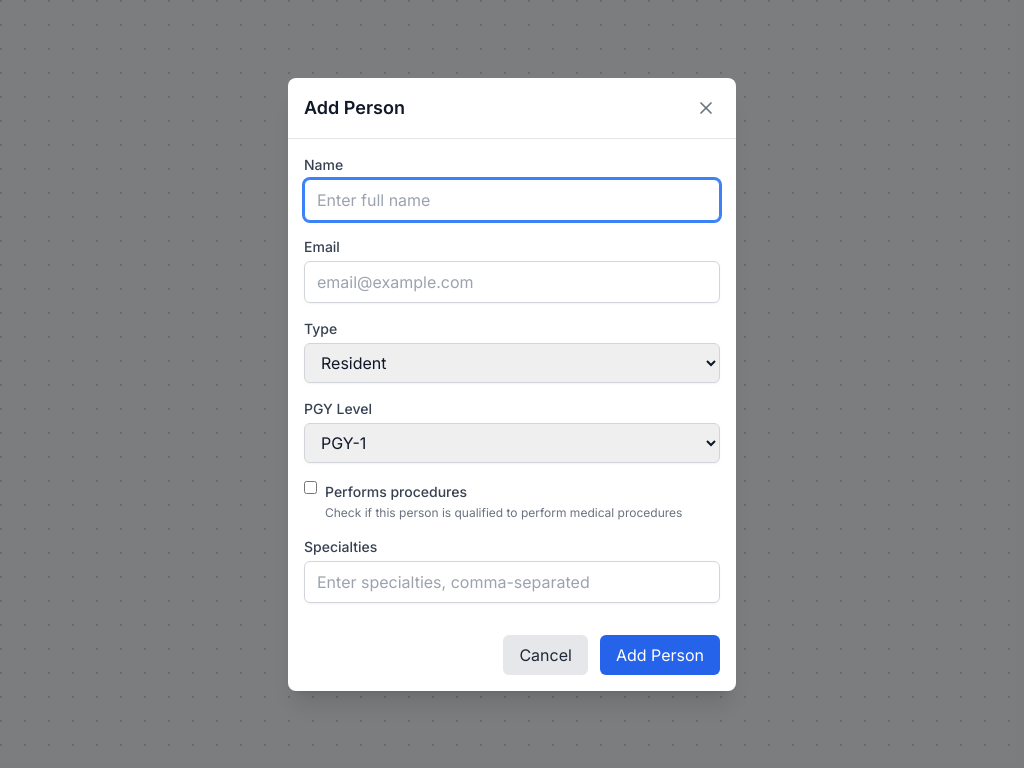
AddPersonModal › Form Validation › should show error for invalid email format
The image size is (1024, 768).
# Enter valid name to bypass required validation
Step 1. Type "Dr. John Smith" into the field labelled "Name" → x=512, y=200, box x1=304 y1=178 x2=720 y2=220
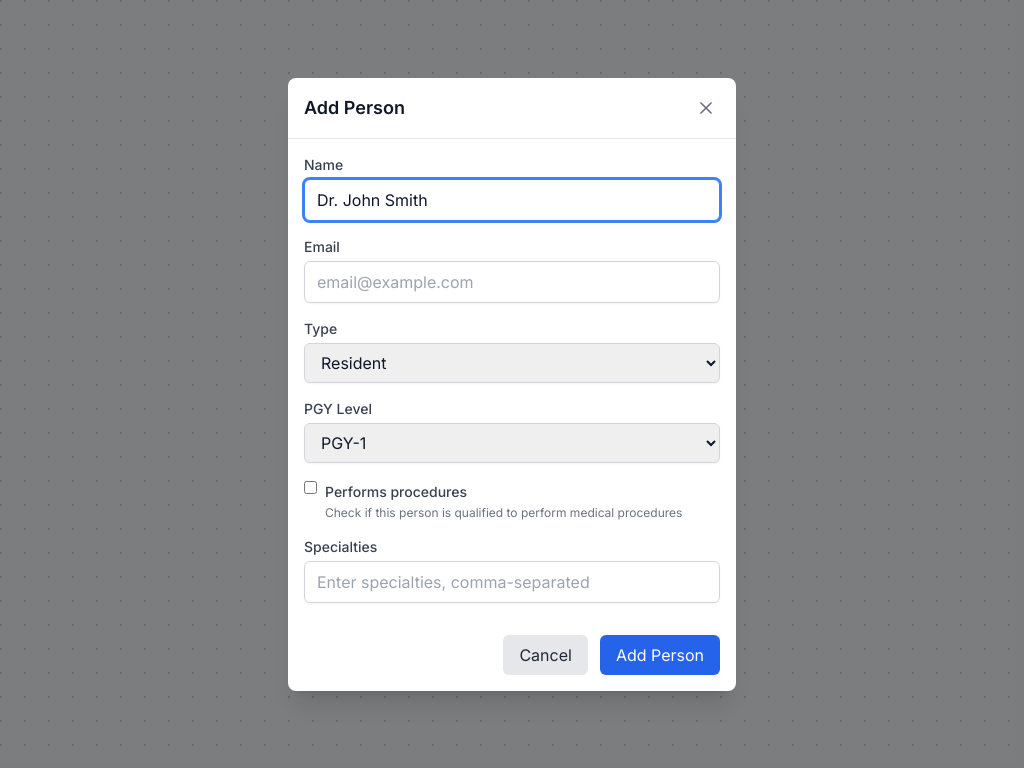
# Enter invalid email
Step 2. Type "invalid-email" into the field labelled "Email" → x=512, y=282, box x1=304 y1=260 x2=720 y2=302
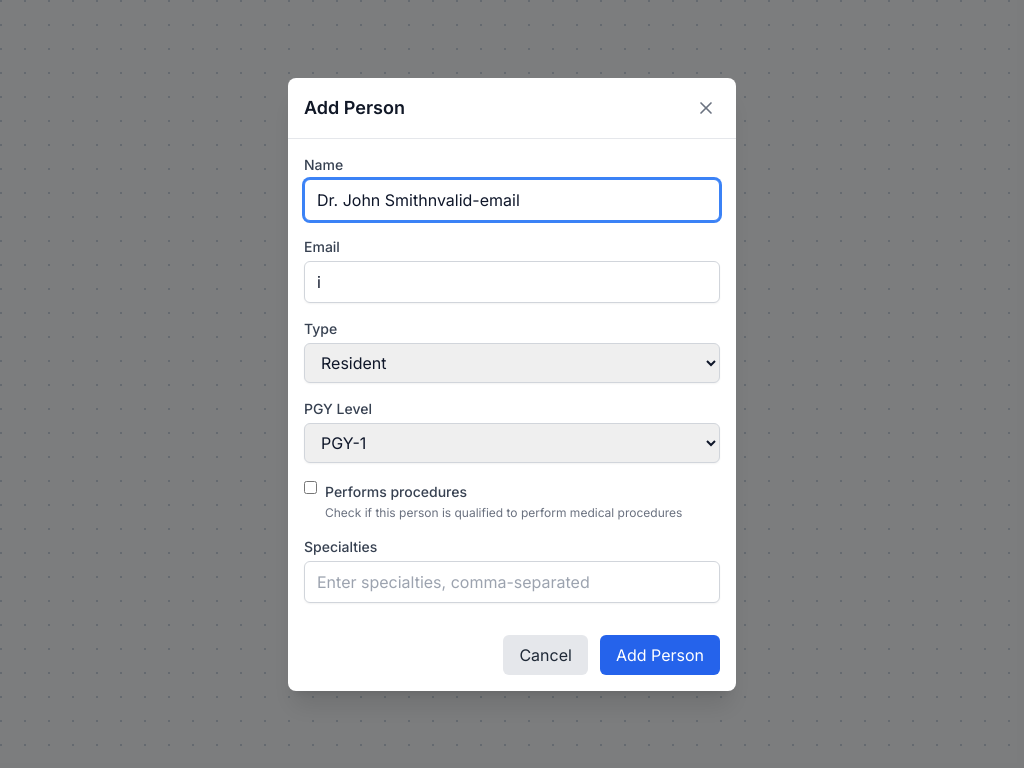
# Submit form
Step 3. Submit the form labelled "Name", box x1=304 y1=154 x2=720 y2=674
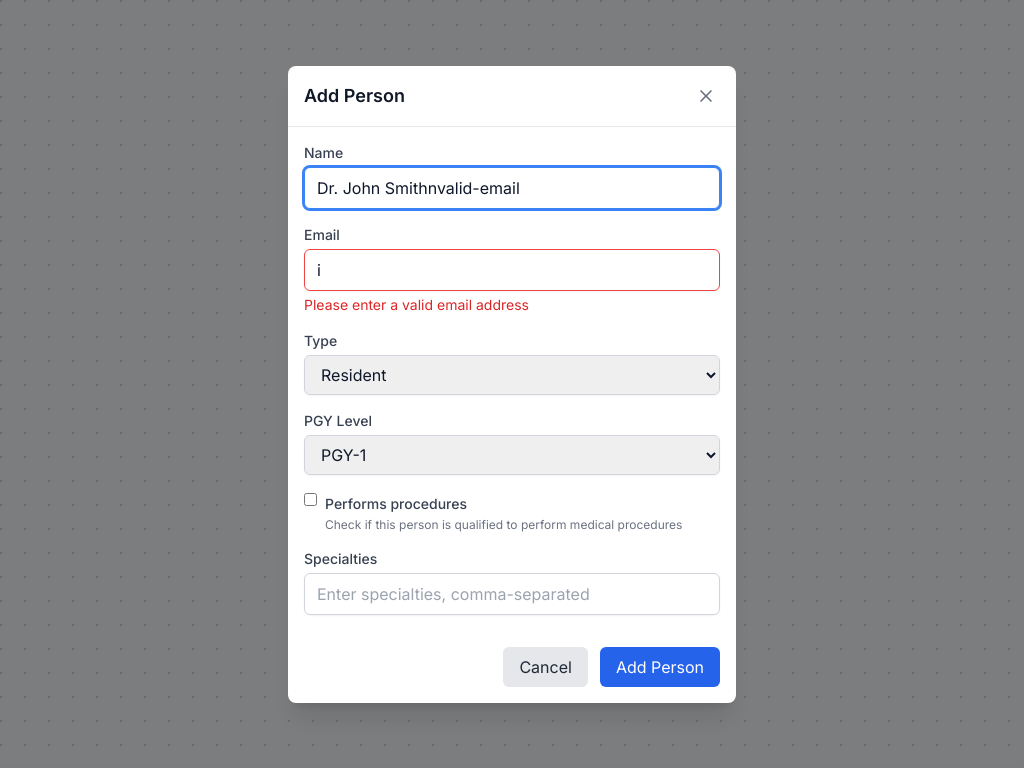
Expected: the text "Please enter a valid email address" is shown, x1=304 y1=296 x2=529 y2=312
